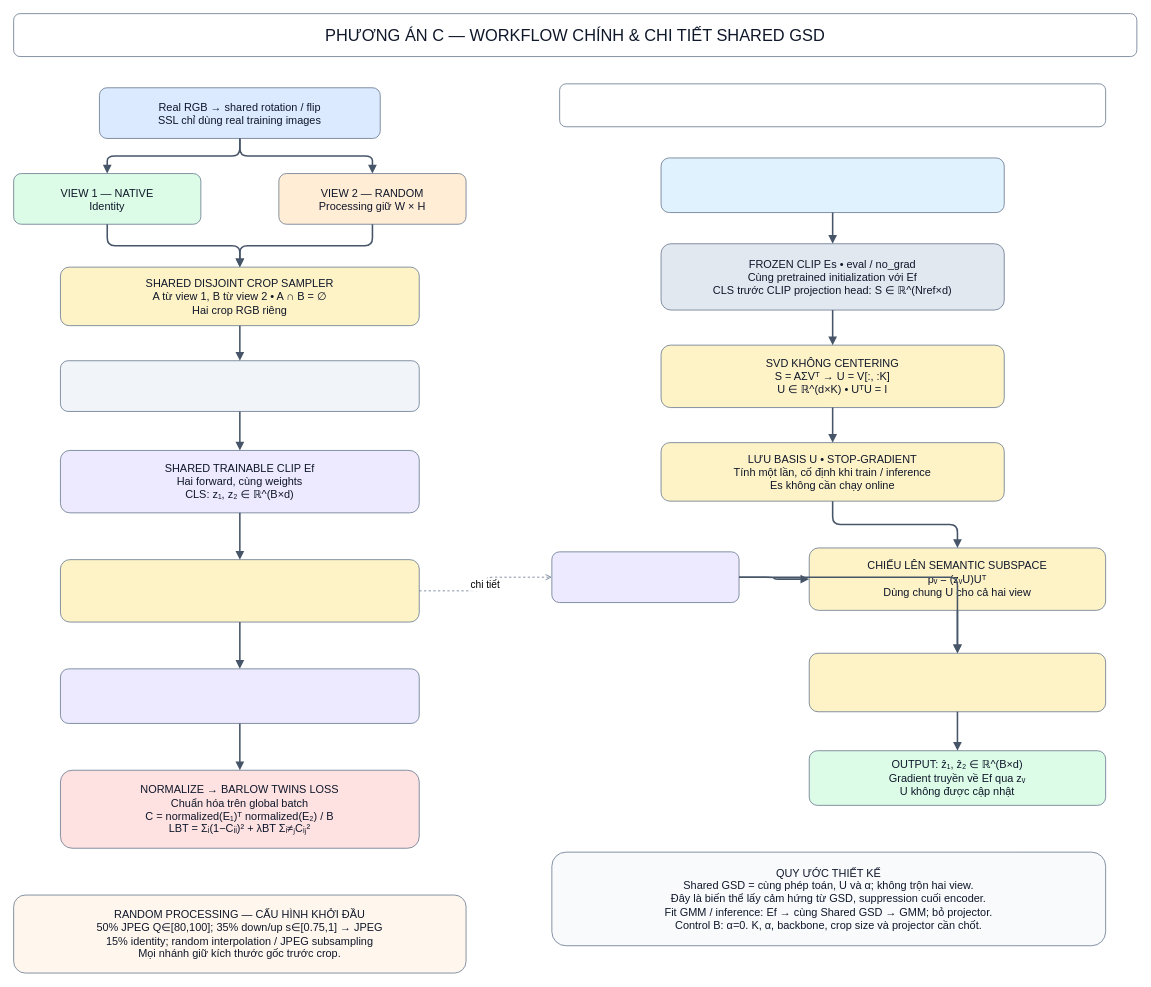
Image size: 1151x987. Some labels were removed from this diagram. Each missing label, with the centre of its shape:
"1. OFFLINE: REAL REFERENCE SET Chỉ thuộc training split • Nref ảnh" goes at (832,185).
"2. ONLINE INPUT zᵥ ∈ ℝ^(B×d) • v=1,2" goes at (645,577).
"BÊN TRONG SHARED GSD — FIXED REFERENCE BASIS" goes at (832,105).
"CLIP PREPROCESSING Input resolution + RGB normalization" goes at (239,385).
"SHARED GSD Input: z₁, z₂ → output: ẑ₁, ẑ₂ Cùng basis U và suppression strength α" goes at (239,590).
"SHARED TRAINABLE PROJECTOR d → hidden → D Output: e₁, e₂ ∈ ℝ^(B×D)" goes at (239,695).
"SUPPRESS THÀNH PHẦN ĐƯỢC CHIẾU ẑᵥ = zᵥ − αpᵥ α cố định theo từng run" goes at (957,682).
